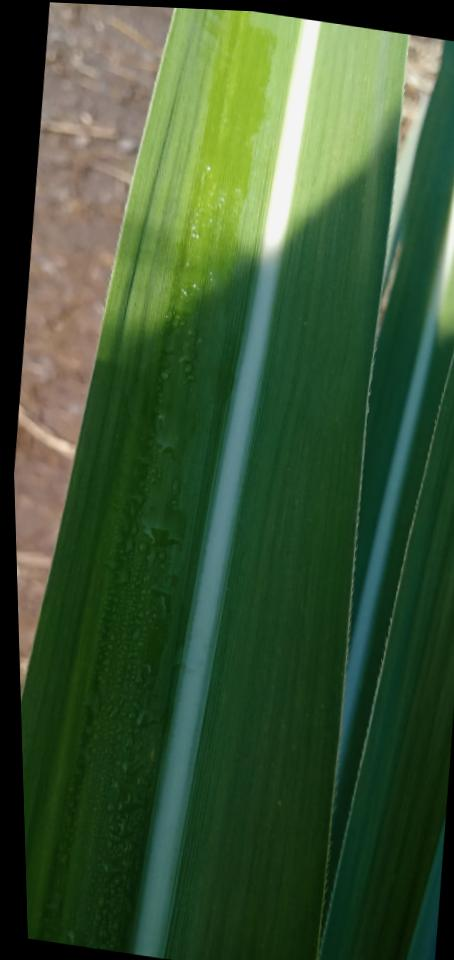Healthy: (21, 8, 398, 960)
